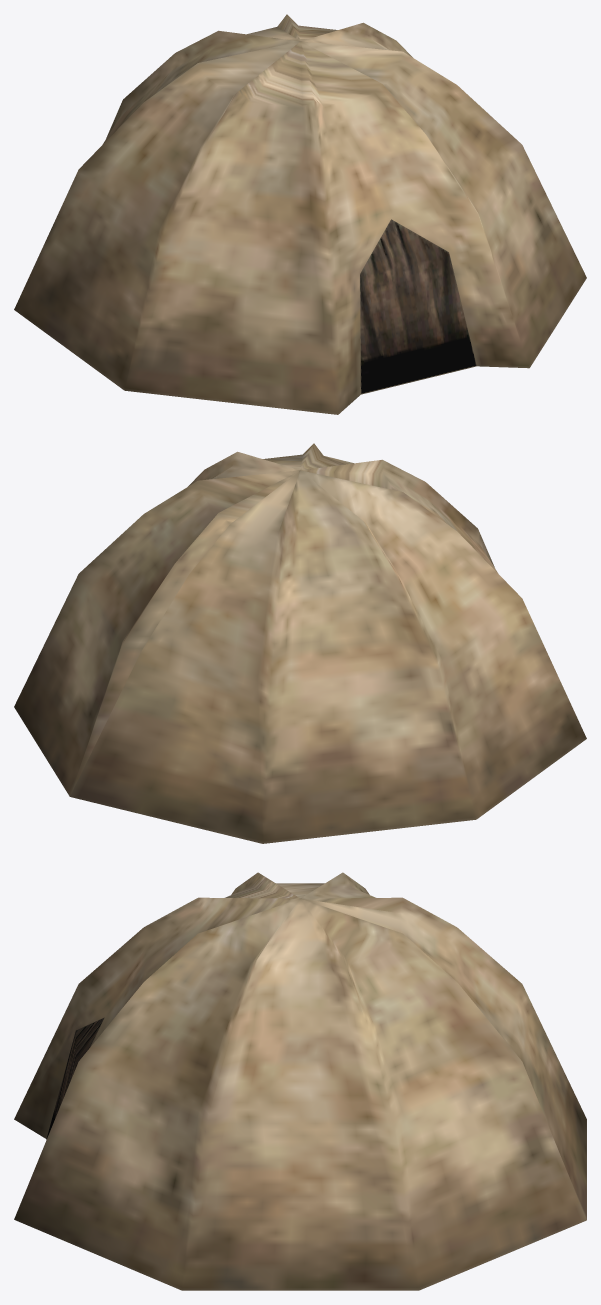
The model's file is poi_tato_tusken_hut_s01_l2.fbx.
3 views of the same model, one above another, from view 1: azimuth 30°, elevation 25°; view 2: azimuth 150°, elevation 25°; view 3: azimuth 270°, elevation 25° (orthographic). The views are drawn at different scales.
Parts seen in each view (by area): view 1: mesh_node; view 2: mesh_node; view 3: mesh_node.
Boxes of the visible parts, bbox=[...] form: mesh_node: bbox=[14, 14, 586, 414]; mesh_node: bbox=[14, 443, 586, 843]; mesh_node: bbox=[14, 872, 586, 1290].
Bounding box in the file's own units: 6.53 × 3.41 × 6.53.
1 material, 1 textured.
